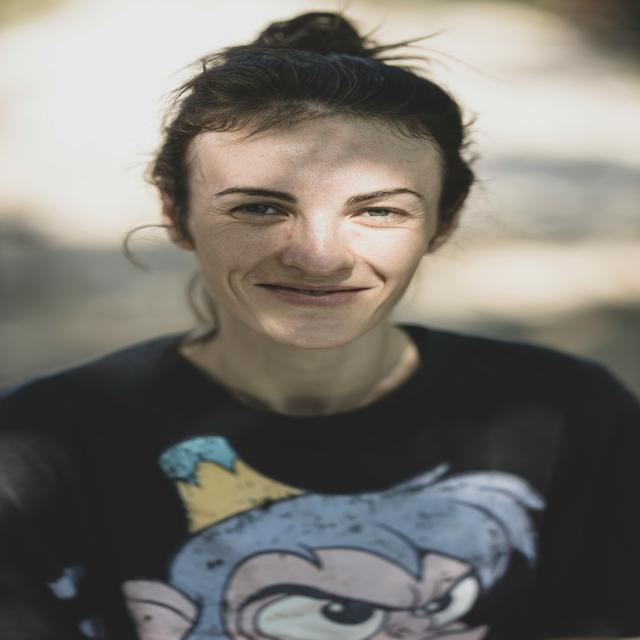human: (51, 17, 640, 640)
